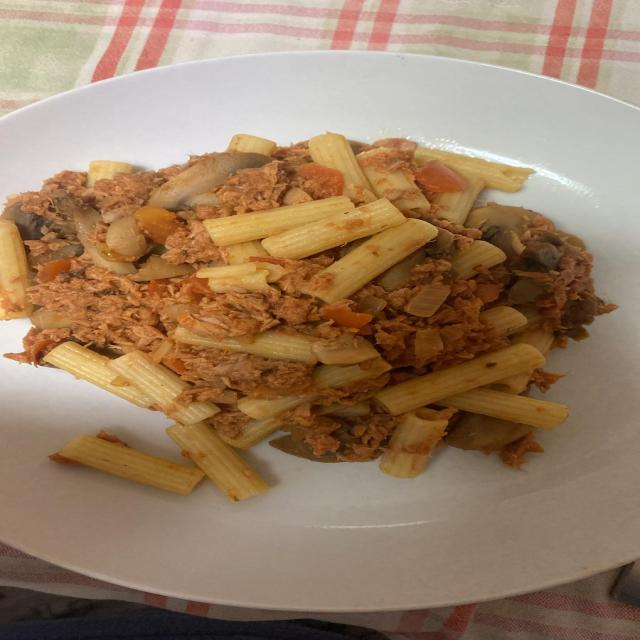mushrooms: (434, 170, 535, 260), (147, 152, 271, 212), (304, 134, 379, 203), (445, 413, 534, 450), (97, 213, 164, 257), (378, 255, 419, 289), (73, 210, 100, 252), (450, 250, 489, 279), (228, 134, 275, 153), (395, 195, 431, 218), (382, 170, 415, 191), (332, 239, 365, 258), (427, 230, 449, 254), (490, 380, 520, 394)
pasta: (174, 133, 441, 390), (43, 340, 311, 501), (373, 330, 567, 478), (78, 134, 279, 269), (411, 143, 534, 226), (0, 213, 68, 328), (450, 240, 505, 279), (480, 307, 531, 336), (86, 160, 137, 188)
plate: (0, 52, 639, 612)
tuna: (23, 206, 601, 407), (166, 158, 341, 266), (84, 162, 195, 212)
